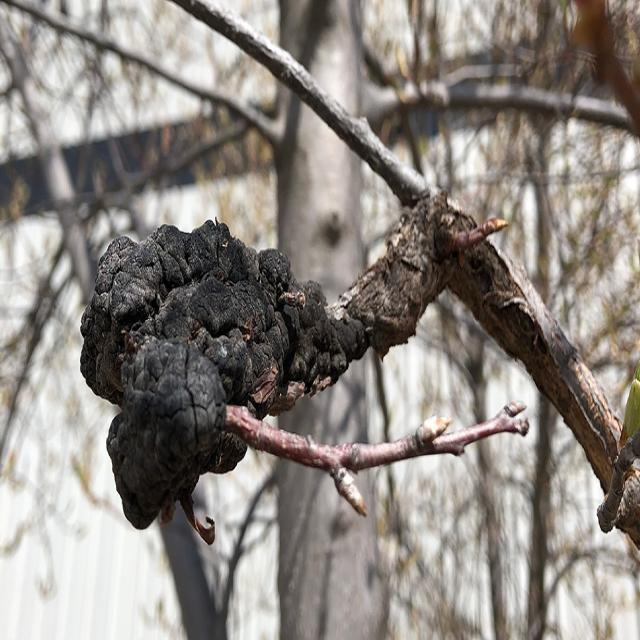Black_knot: (79, 213, 333, 543)
